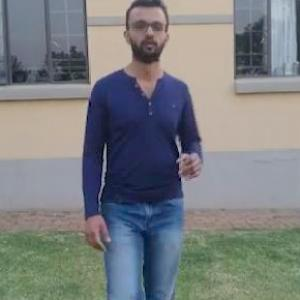follow: (73, 1, 194, 299)
